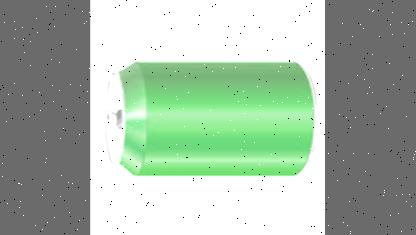Can: (101, 61, 314, 176)
